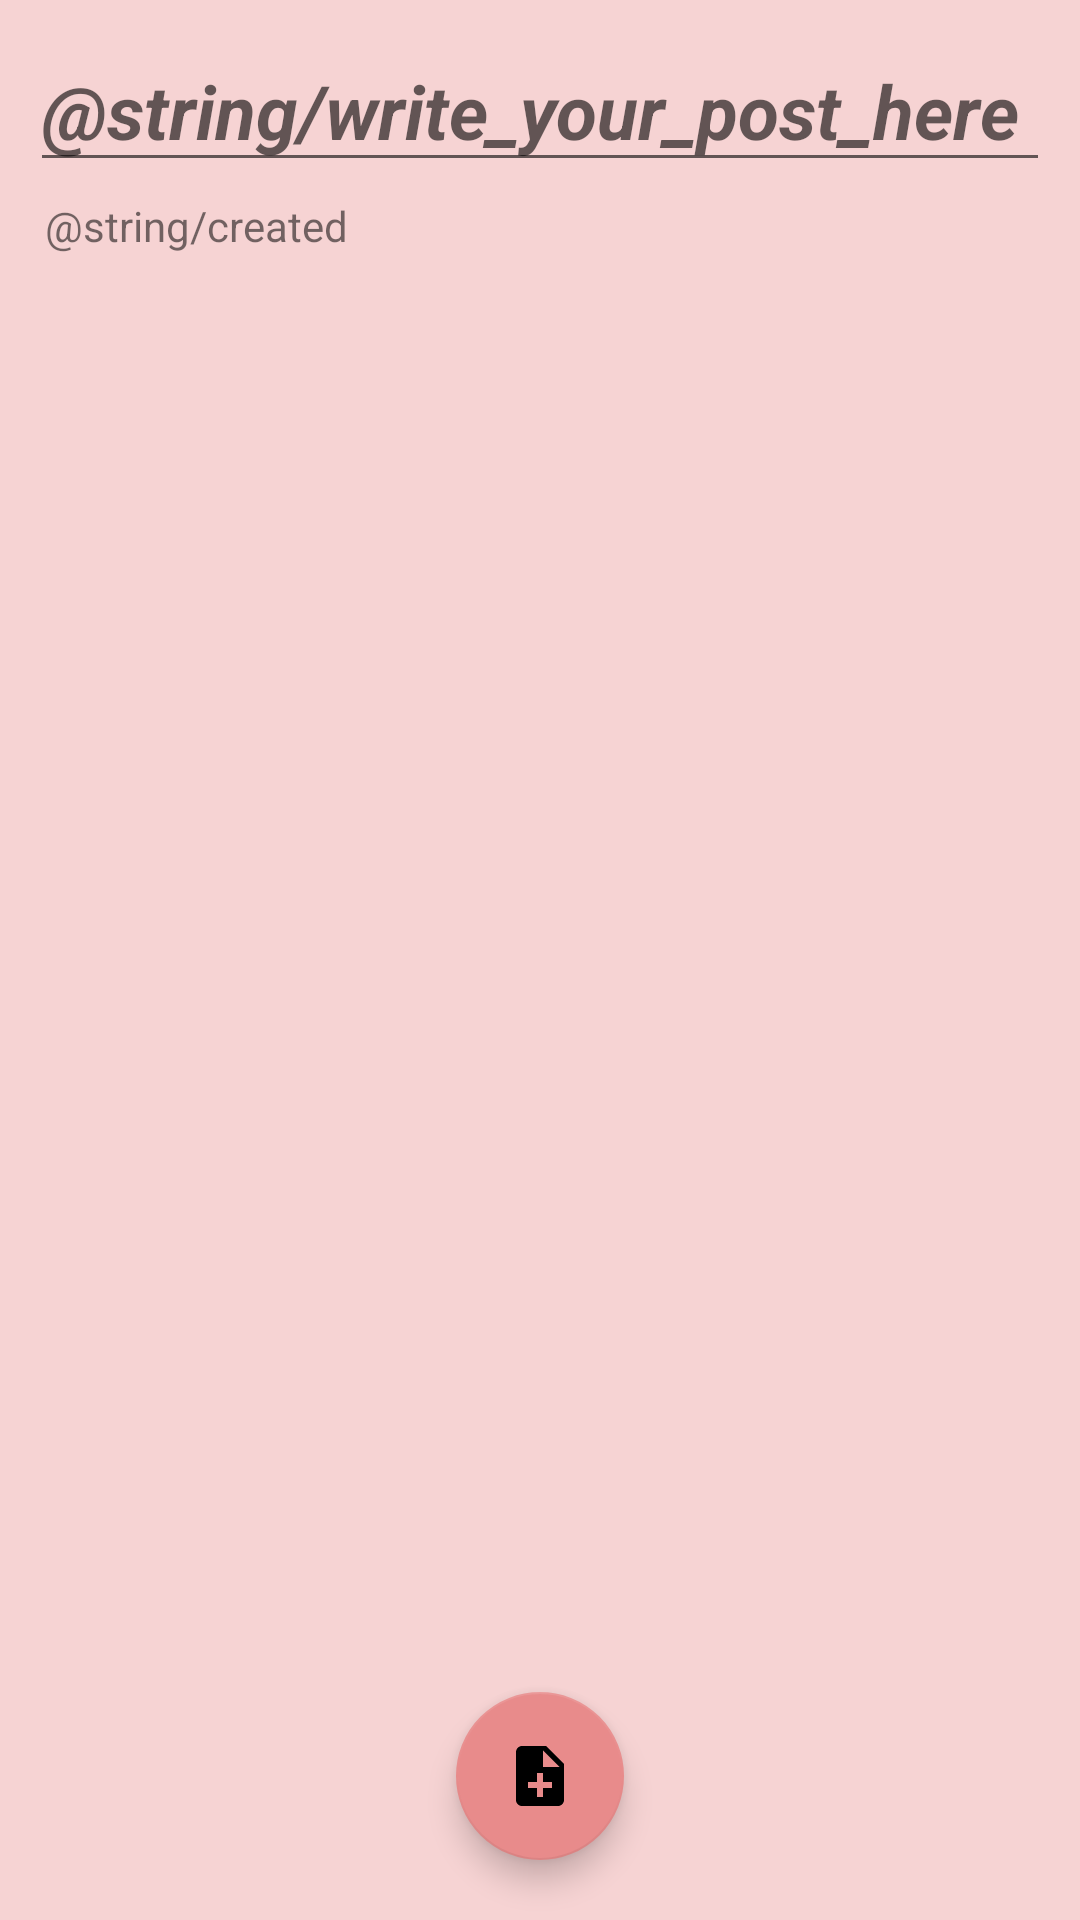

Screen size 1080 x 1920. Icon name, then its center in pixels as point (x, y):
Add new post: point (540, 1776)
